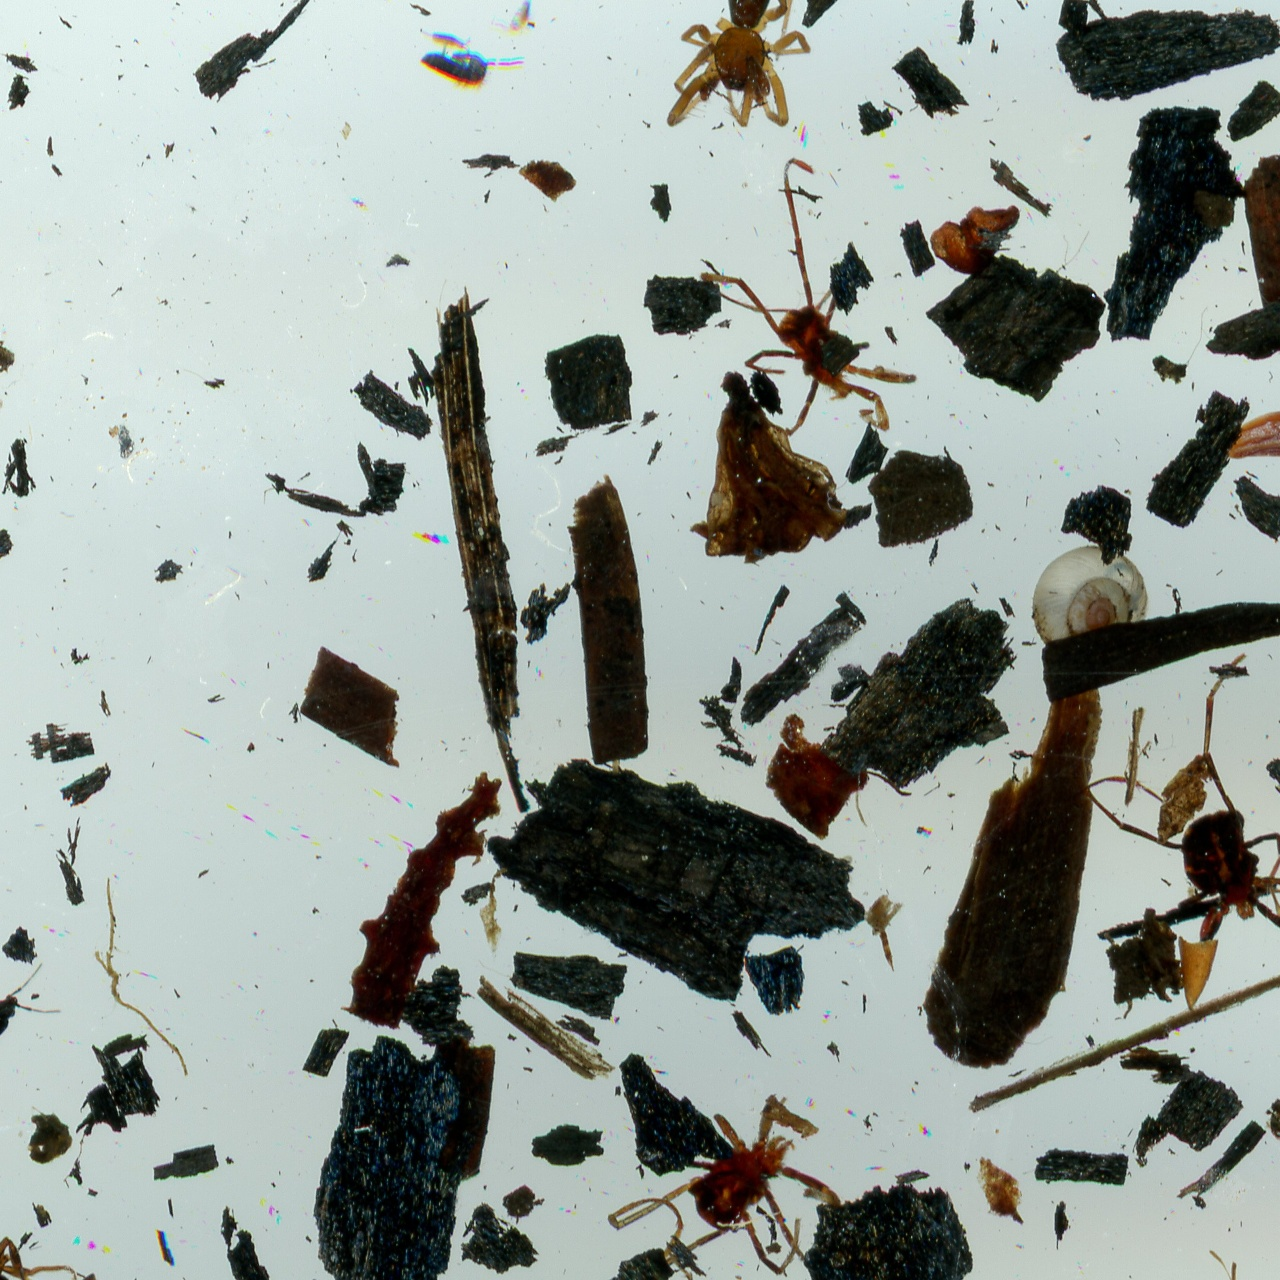arthropod: (697, 152, 921, 437), (1082, 648, 1280, 946), (607, 1089, 848, 1280), (663, 0, 813, 131), (1015, 526, 1169, 653), (0, 1168, 97, 1280), (0, 959, 63, 1052), (415, 47, 527, 96), (408, 20, 475, 60), (489, 0, 545, 33)
